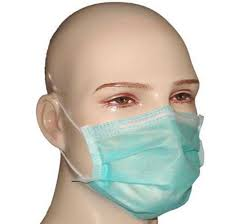mask: (42, 6, 213, 216)
